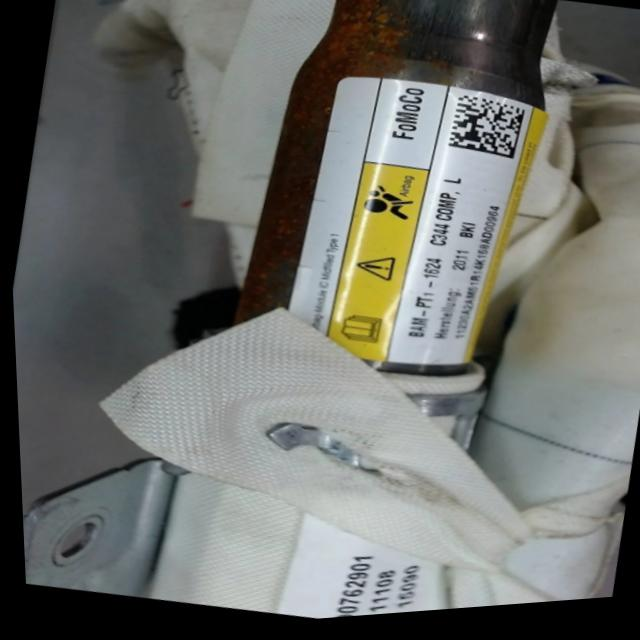datamatrix: (443, 97, 529, 173)
